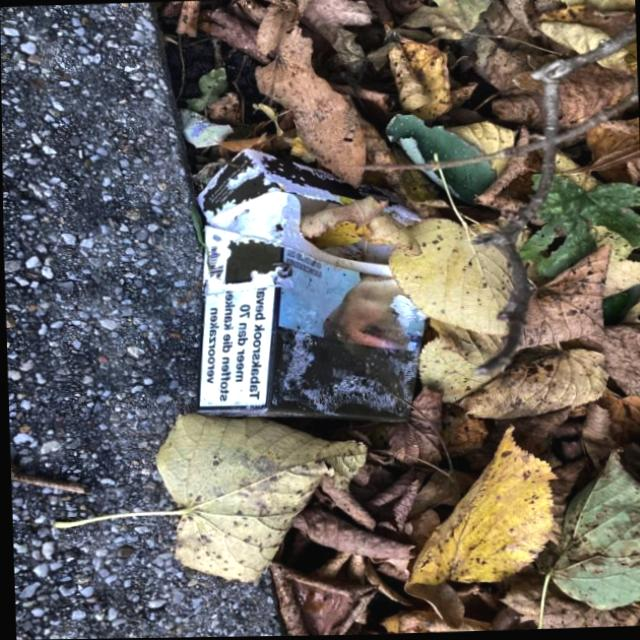Paper: (183, 137, 437, 434)
